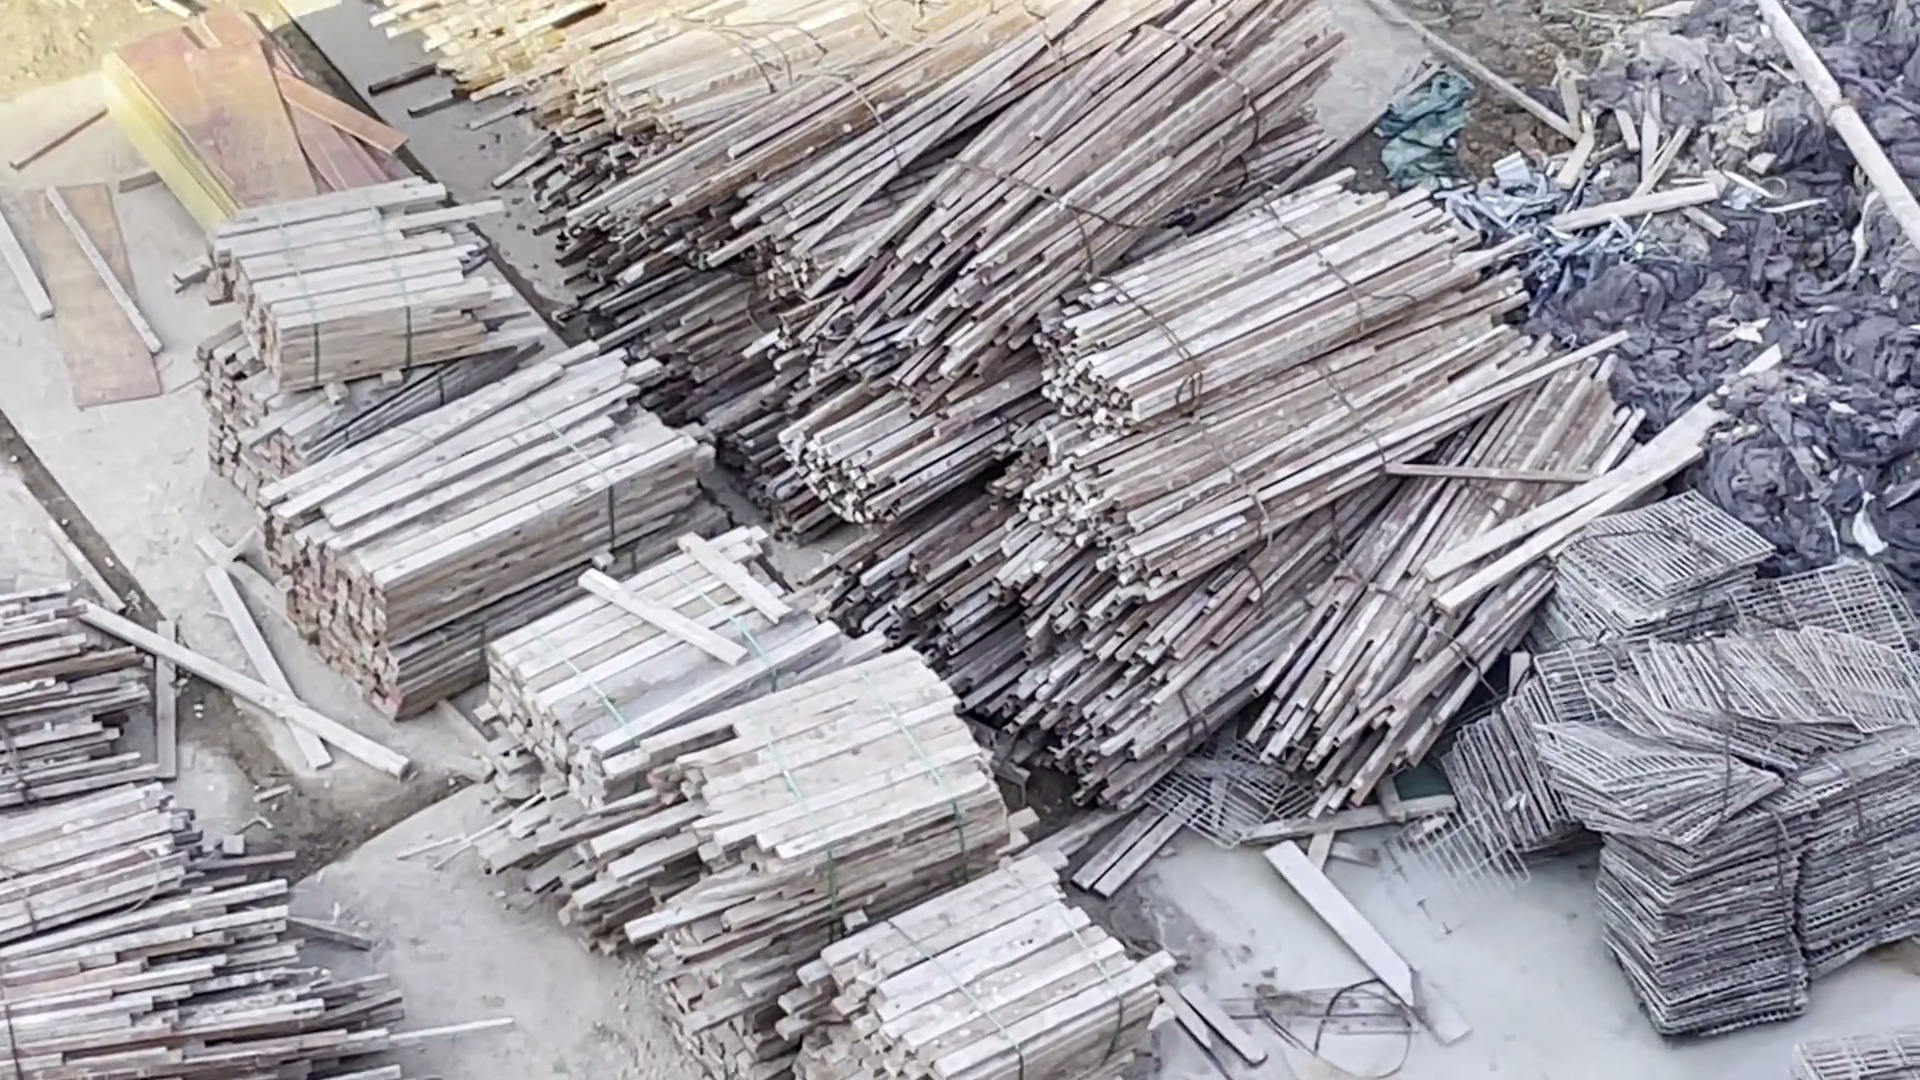wood: (438, 1, 1588, 831), (156, 167, 661, 698), (491, 603, 1002, 1033), (1, 533, 285, 1060), (764, 913, 1178, 1069)
